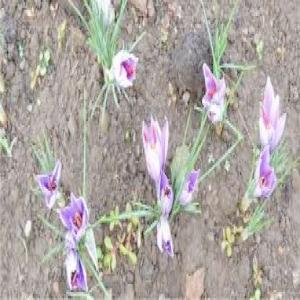Saffron: (258, 78, 288, 151), (143, 116, 169, 182), (59, 196, 93, 239), (110, 46, 142, 89), (251, 150, 277, 200), (202, 64, 224, 122), (66, 248, 93, 290), (39, 164, 64, 209), (158, 218, 176, 254)
